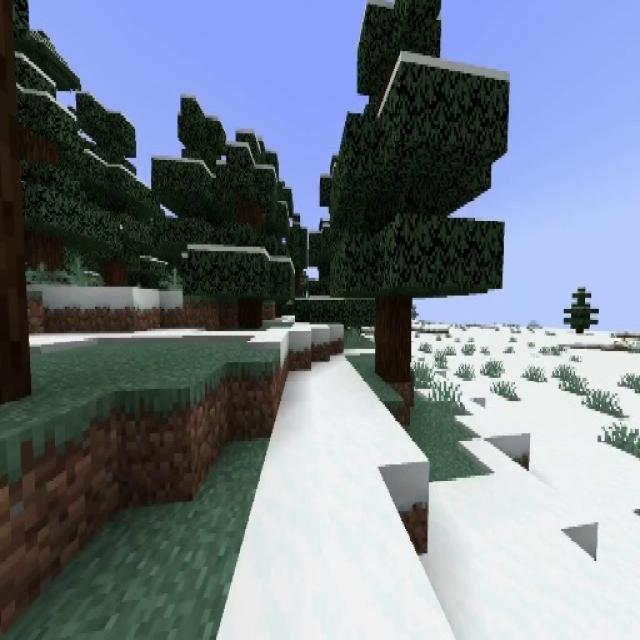spruce: (332, 0, 504, 379), (190, 135, 295, 328), (562, 282, 600, 337)
spruce_log: (377, 295, 412, 379), (27, 231, 62, 282), (238, 298, 262, 329), (105, 263, 128, 286)
